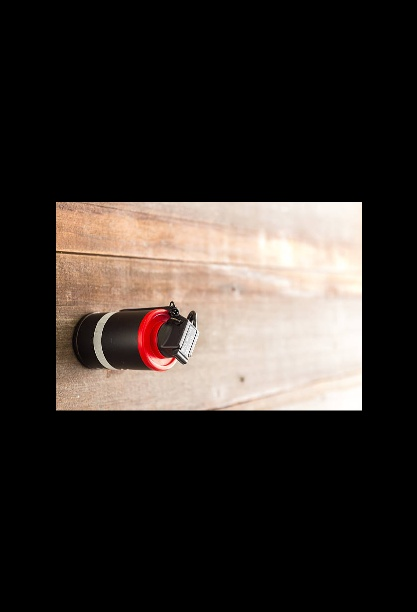e1: (70, 299, 204, 377)
